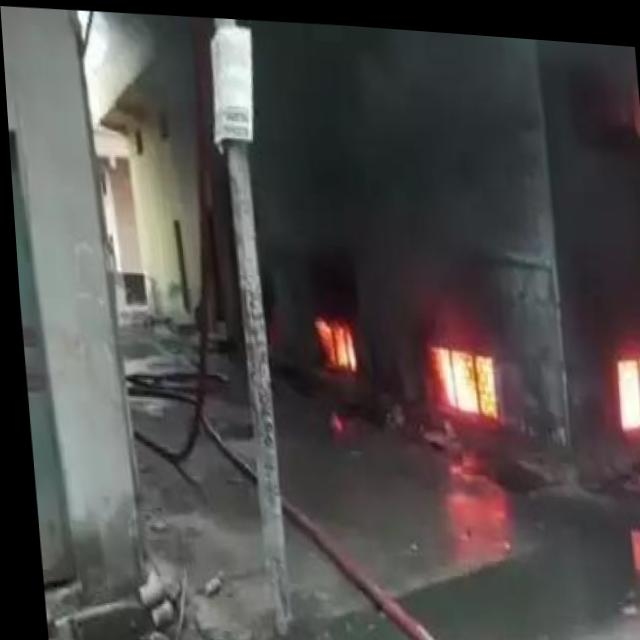fire: (414, 323, 498, 415), (302, 304, 362, 374), (604, 338, 640, 429)
